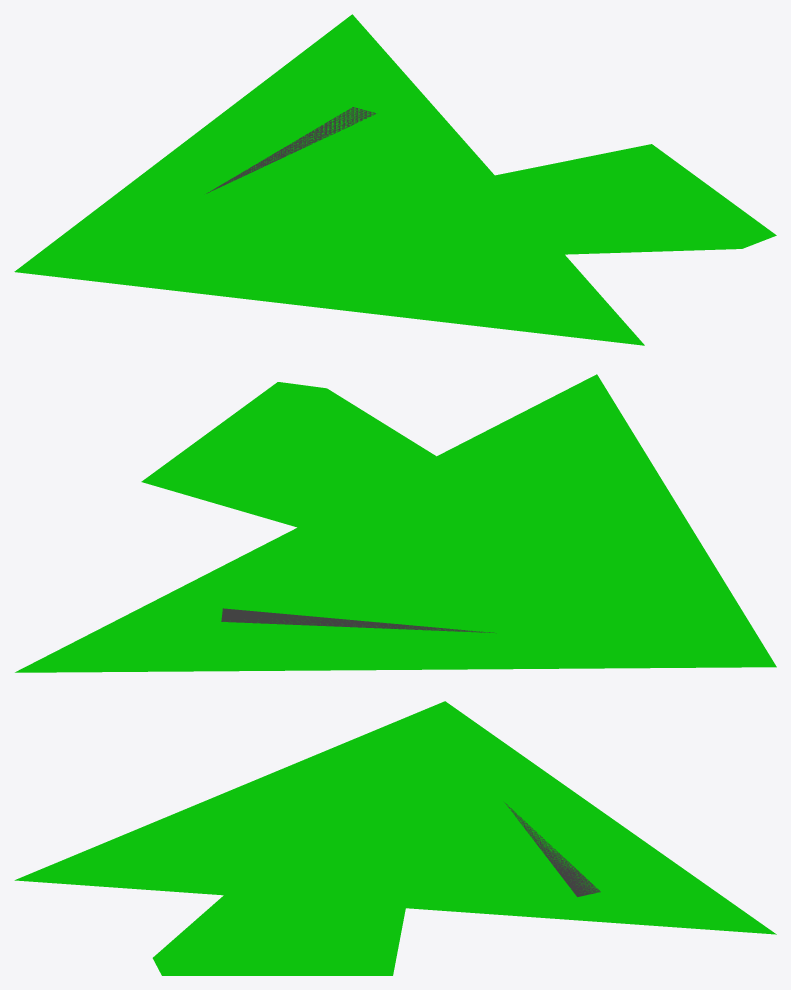
3 renders of one model, top to bottom at view 1: azimuth 30°, elevation 25°; view 2: azimuth 150°, elevation 25°; view 3: azimuth 270°, elevation 25°, orthographic. The views are drawn at different scales.
Size of the model in its own units: 84.4 by 0 by 99.04.
